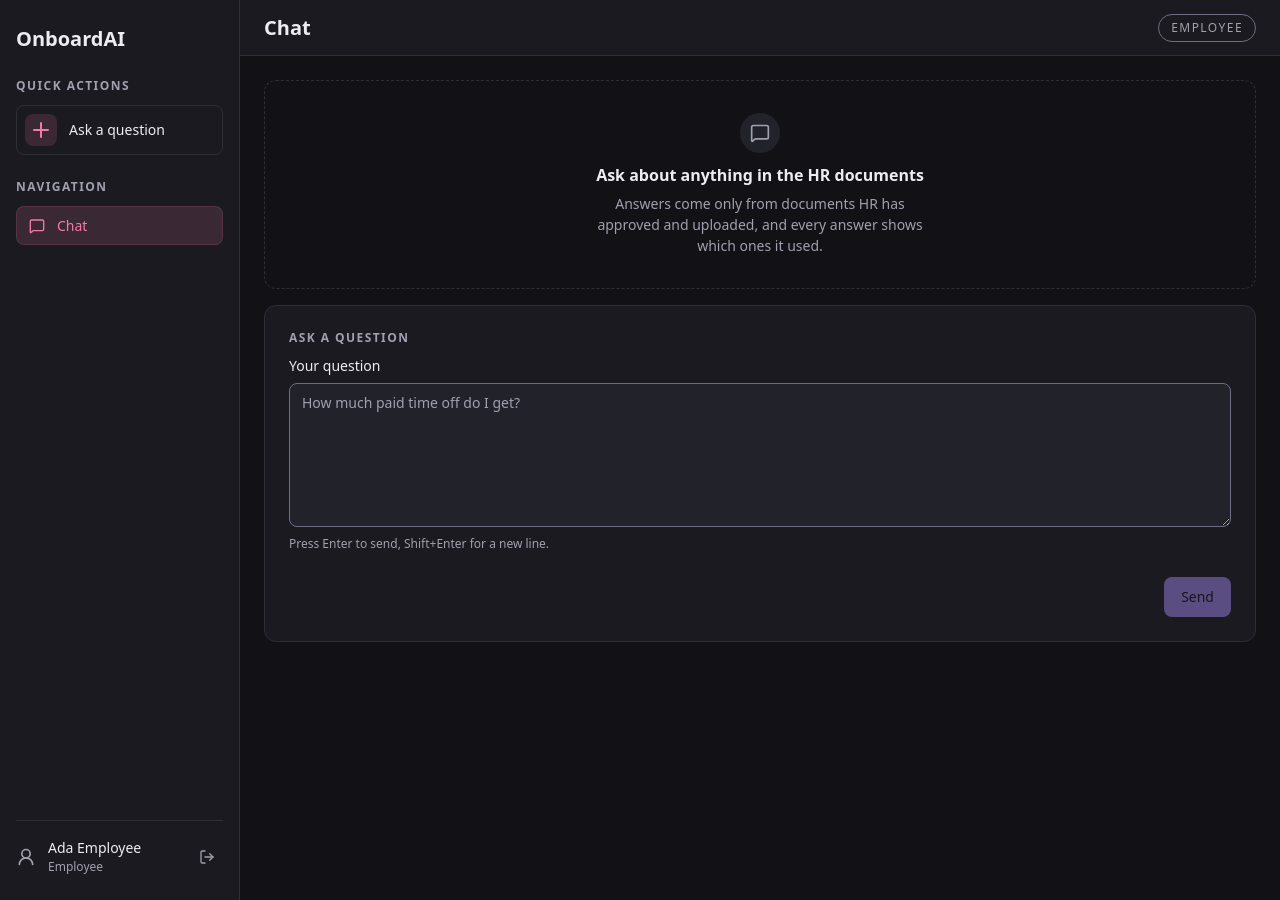
reads the fallback flag rather than guessing from empty citations
Type "How much paid time off do I accrue?" into the text box labelled "Your question".
click(760, 454); type("How much paid time off do I accrue?")  # box top-left (289, 382), bottom-right (1231, 526)
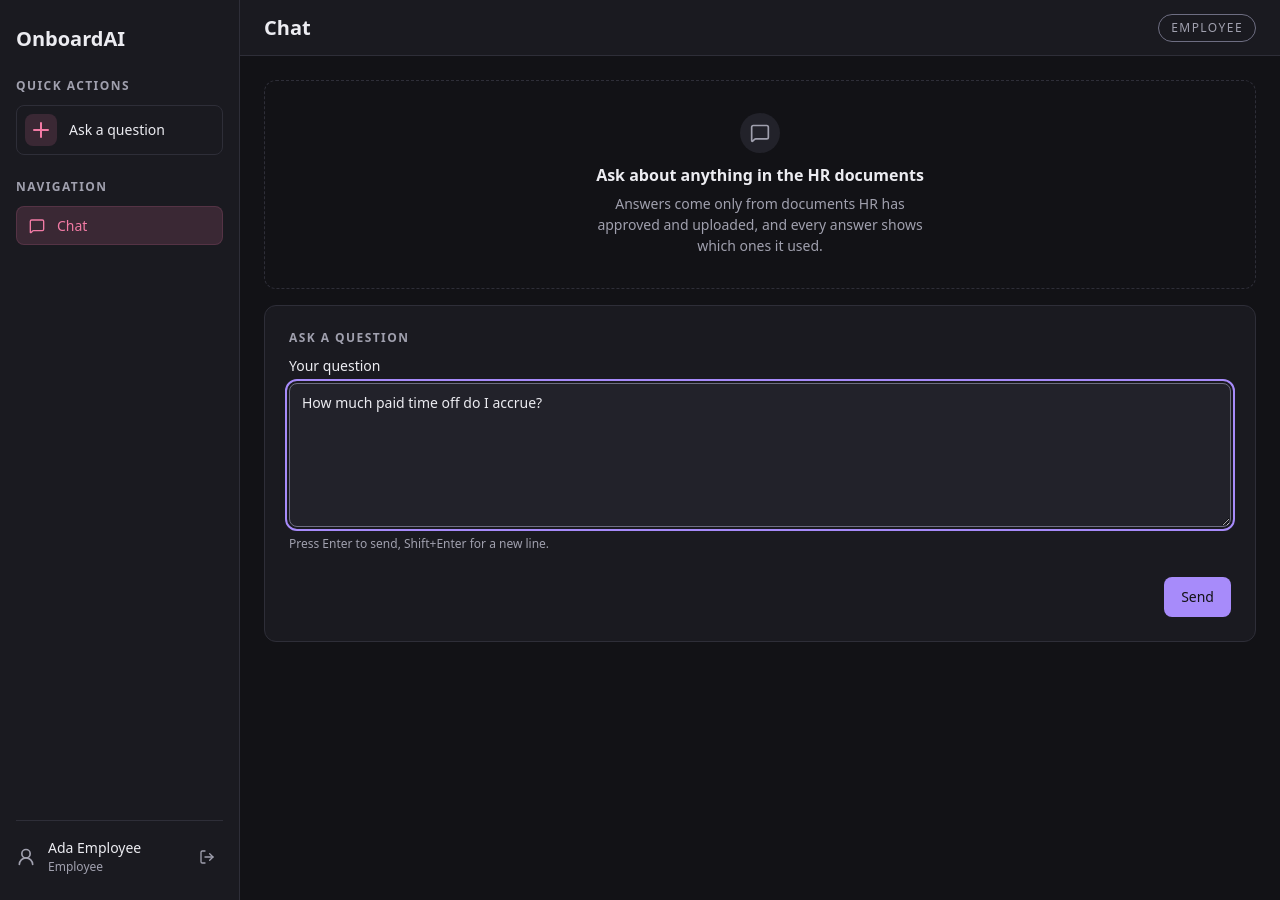
Click the button "Send".
click(1198, 596)  # box top-left (1164, 576), bottom-right (1231, 616)
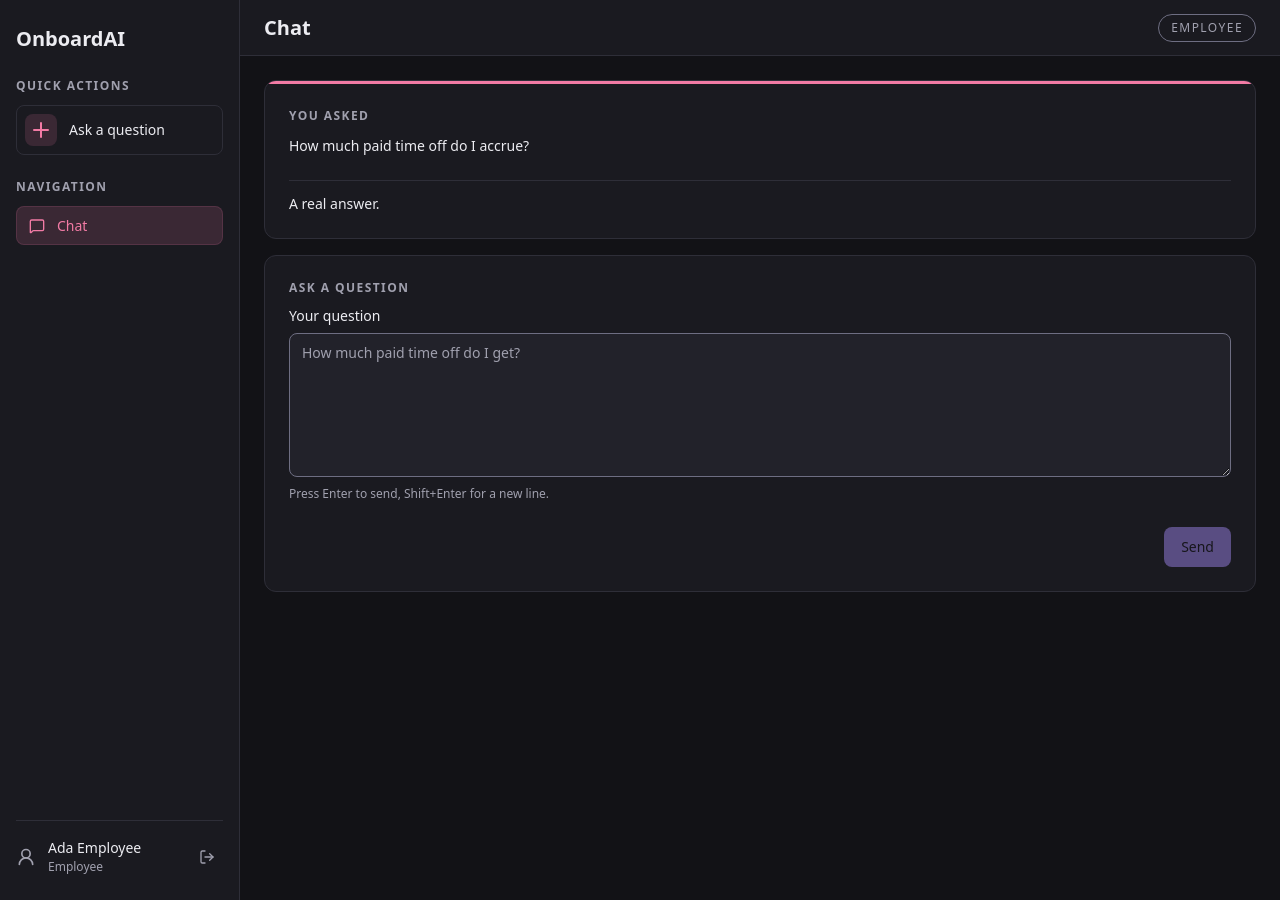
Expected: the text "A real answer." is shown, top-left (289, 194), bottom-right (380, 213)
